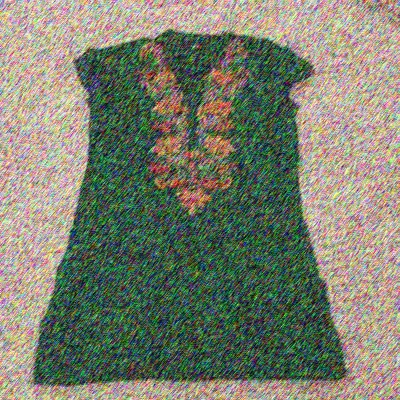Dress: (33, 21, 355, 390)
